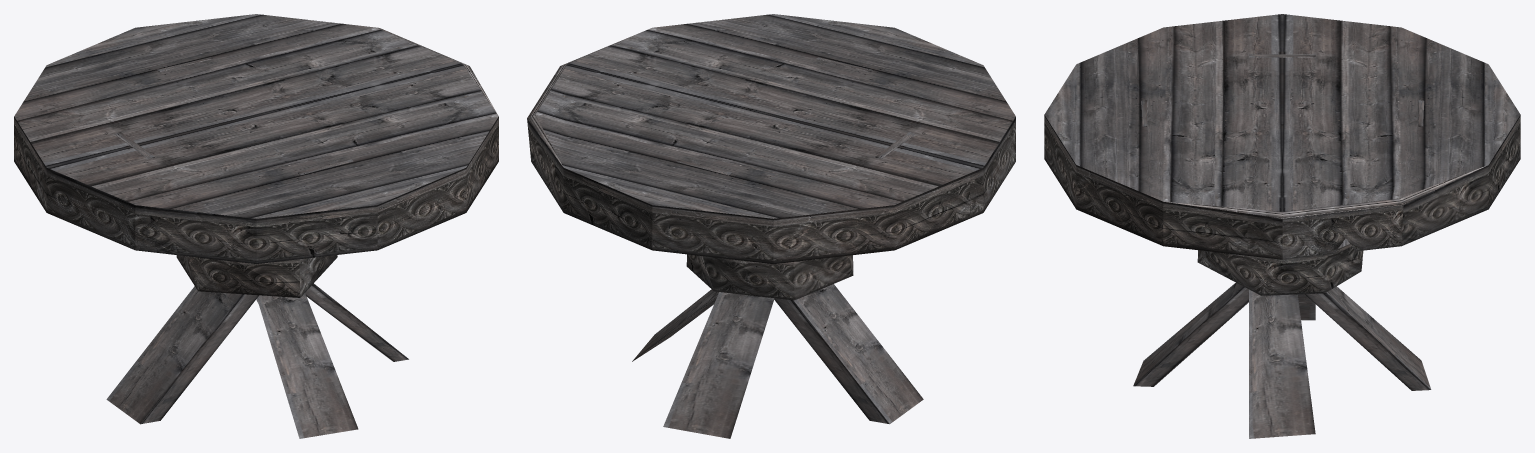
The model's file is tavern_smalltable_LOD.dae.
The picture shows the model from 3 angles, left to right: view 1: azimuth 30°, elevation 25°; view 2: azimuth 150°, elevation 25°; view 3: azimuth 270°, elevation 25°; orthographic projection.
Visible parts, largest first — view 1: Default_Layer; view 2: Default_Layer; view 3: Default_Layer.
Boxes of the visible parts, <box> form: Default_Layer: <box>14,14,498,438</box>; Default_Layer: <box>527,14,1015,438</box>; Default_Layer: <box>1044,14,1520,438</box>.
Bounding box in the file's own units: 1.35 × 0.8081 × 1.33.
